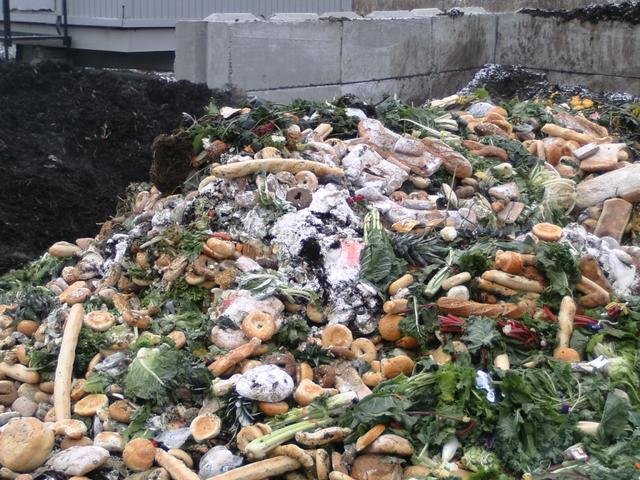garbage: (259, 114, 616, 443), (31, 263, 250, 457)
